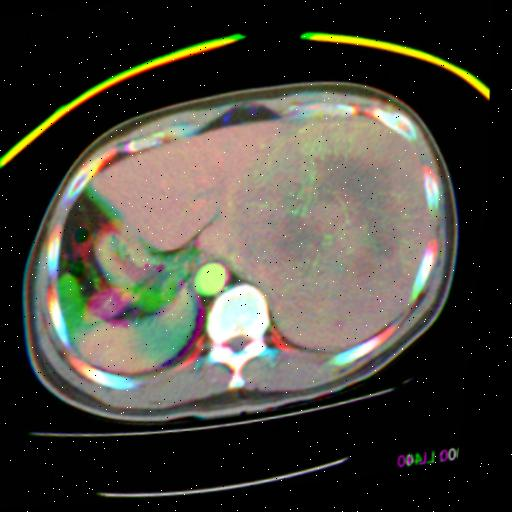Tumor: (318, 159, 407, 263)
